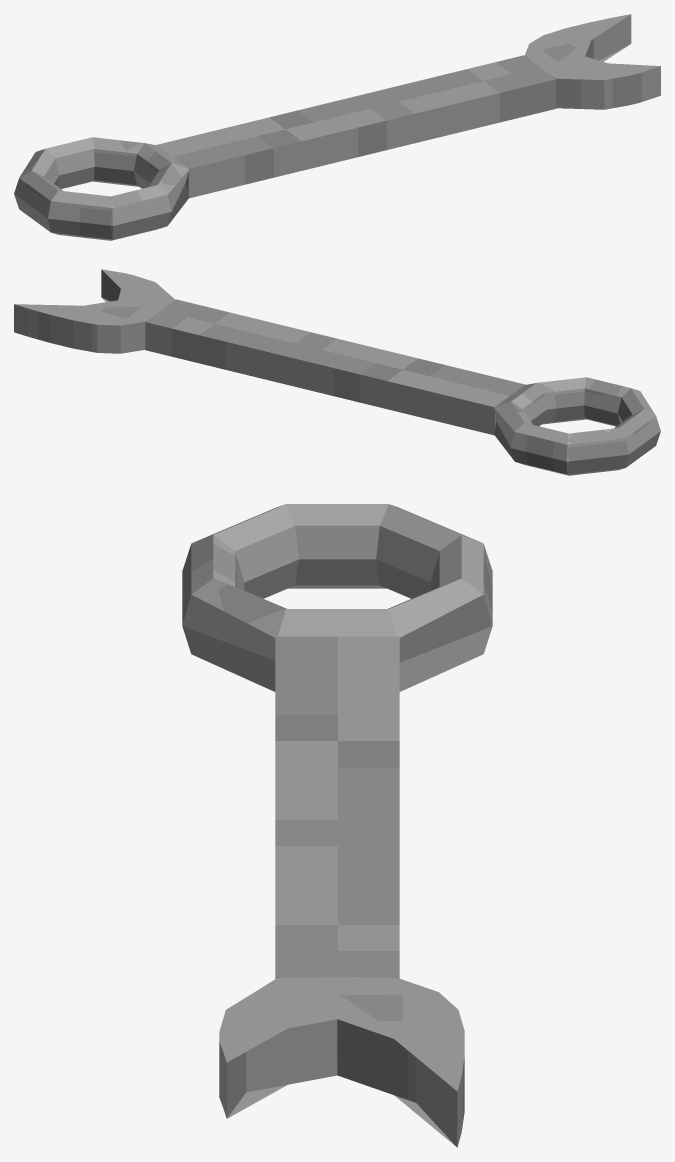
Rendered from wrench.fbx.
The picture shows the model from 3 angles, top to bottom: view 1: azimuth 30°, elevation 25°; view 2: azimuth 150°, elevation 25°; view 3: azimuth 270°, elevation 25°; orthographic projection. The views are drawn at different scales.
Parts seen in each view (by area): view 1: cuboid, torus, cylinder; view 2: cuboid, torus, cylinder; view 3: cuboid, torus, cylinder.
Boxes of the visible parts, <box> form: cuboid: <box>156,55,556,198</box>; torus: <box>14,137,189,240</box>; cylinder: <box>524,14,660,109</box>; cuboid: <box>145,299,525,435</box>; torus: <box>494,377,660,475</box>; cylinder: <box>14,269,175,353</box>; cuboid: <box>275,636,399,978</box>; torus: <box>182,504,492,691</box>; cylinder: <box>219,977,464,1147</box>.
Bounding box in the file's own units: 140 × 9.38 × 31.25.
1 material, 1 textured.
